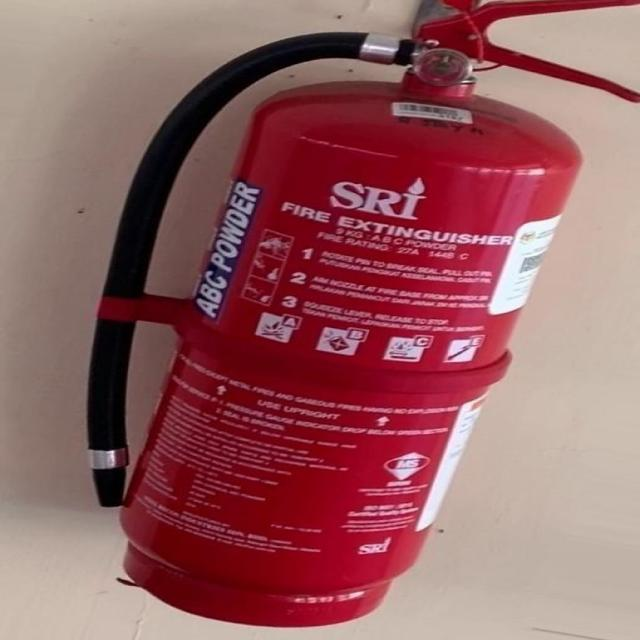fire_extinguisher: (73, 0, 639, 631)
